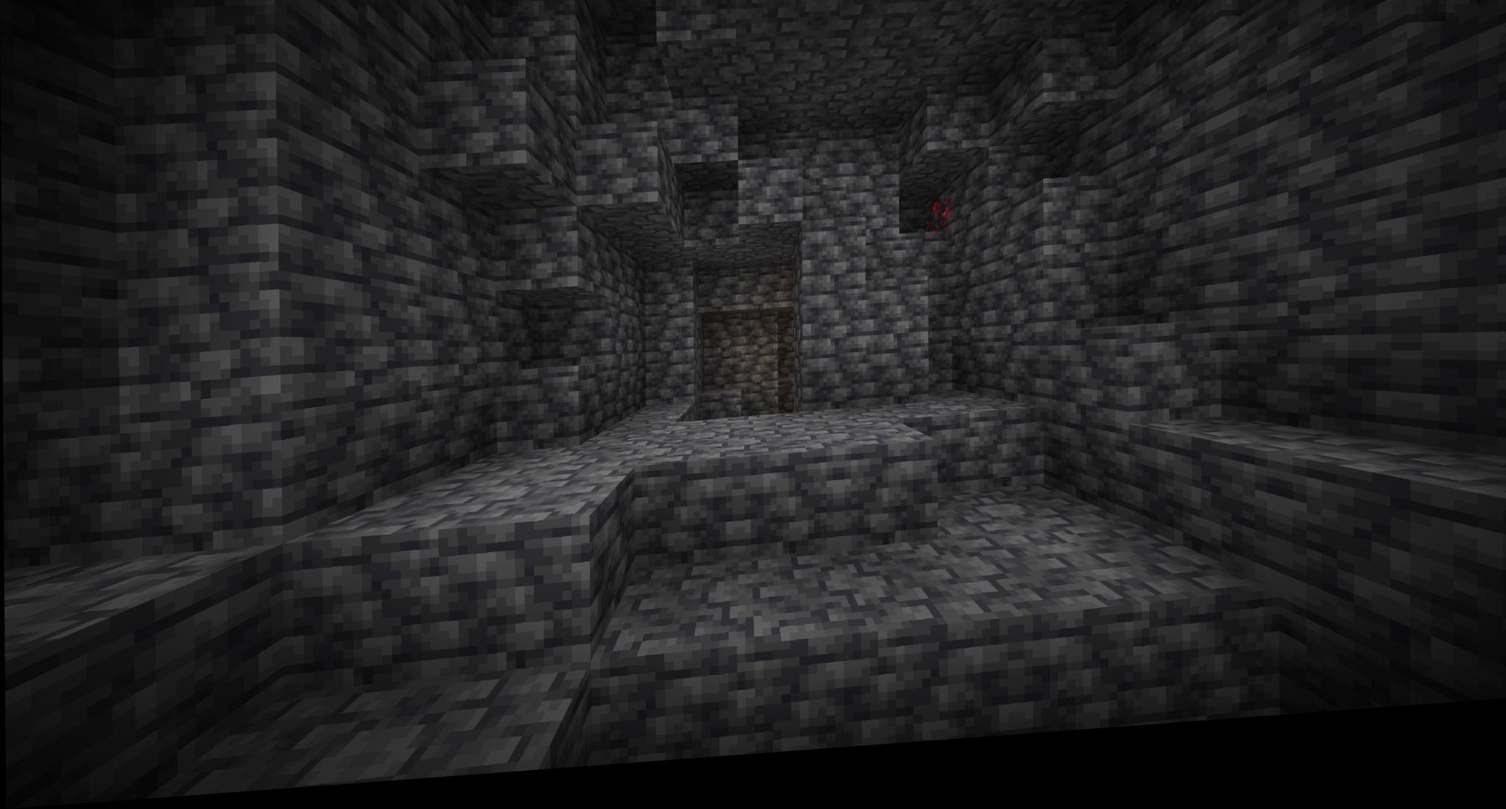redstone ore: (921, 205, 959, 249)
